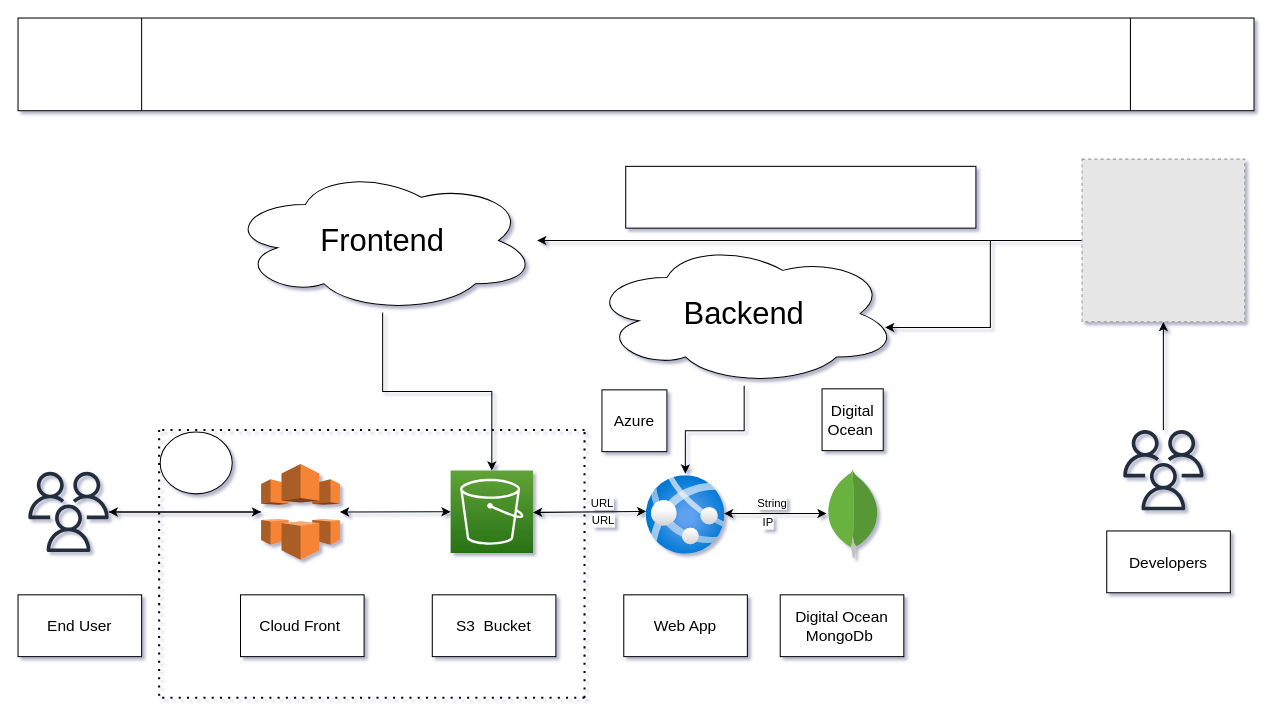
Image size: 1278x724. Some labels were removed from this diagram. Grey dashed boxes stand in for pictures. The centre of each missing label's shape, as x and y in pixels:
AWS: the point at 195,462
Chiefex Production Environment: the point at 635,64
Github Action: the point at 800,196
